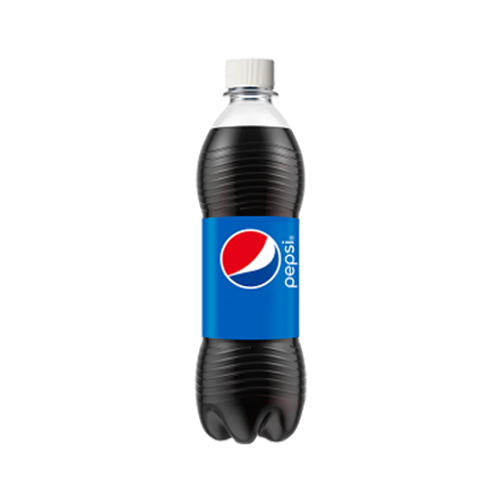pepsi_bottle: (196, 57, 305, 443)
